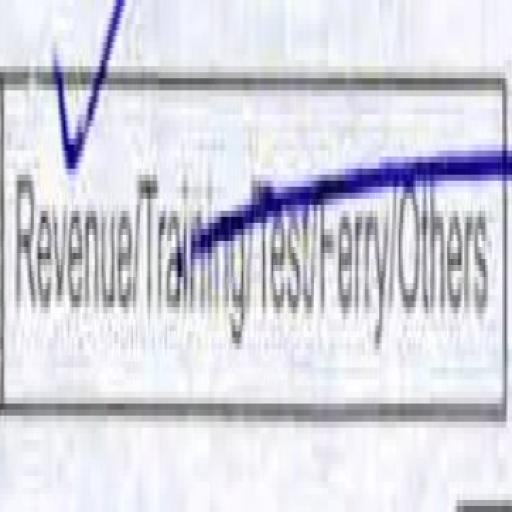check: (1, 0, 137, 449)
